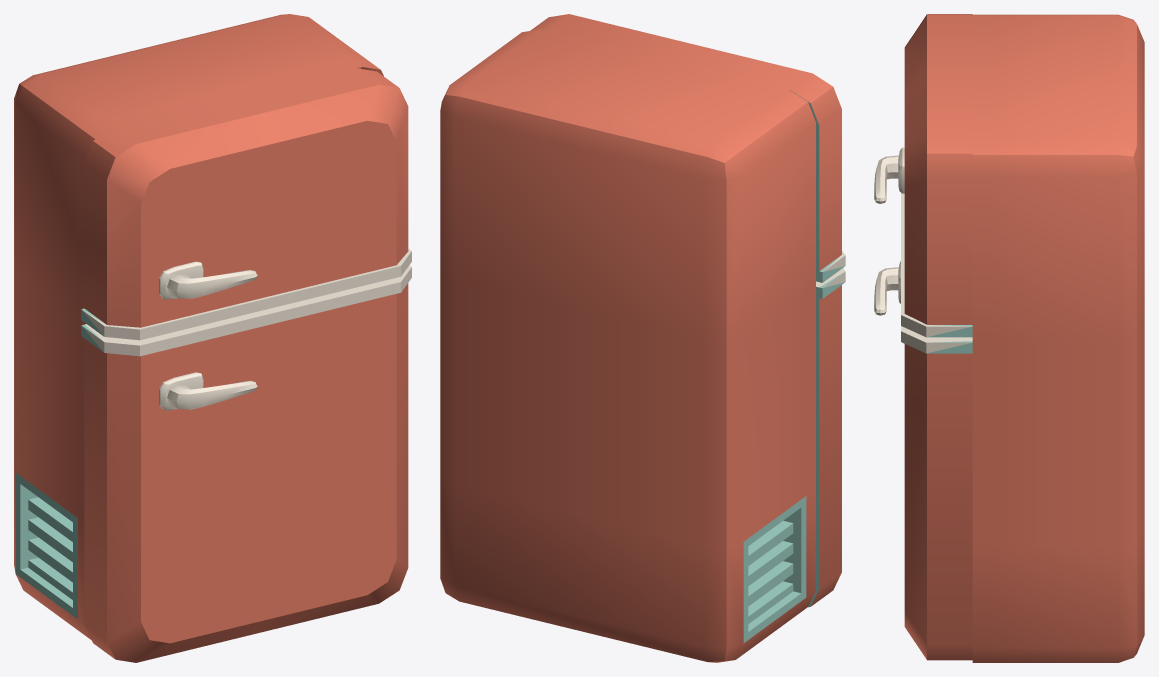
The model's file is fridge_b.glb.
The picture shows the model from 3 angles, left to right: view 1: azimuth 30°, elevation 25°; view 2: azimuth 150°, elevation 25°; view 3: azimuth 270°, elevation 25°; orthographic projection.
Parts seen in each view (by area): view 1: door, door_top, body; view 2: body, door_top, door; view 3: body, door_top, door.
Boxes of the visible parts, x1,y1,x2,y2 form: door: (84,283,408,662); door_top: (81,68,411,340); body: (14,14,411,639); body: (440,29,845,662); door_top: (530,14,845,282); door: (808,285,841,607); body: (901,14,1144,662); door_top: (874,14,972,337); door: (874,261,972,660).
Bounding box in the file's own units: 0.98 × 1.58 × 0.74.
